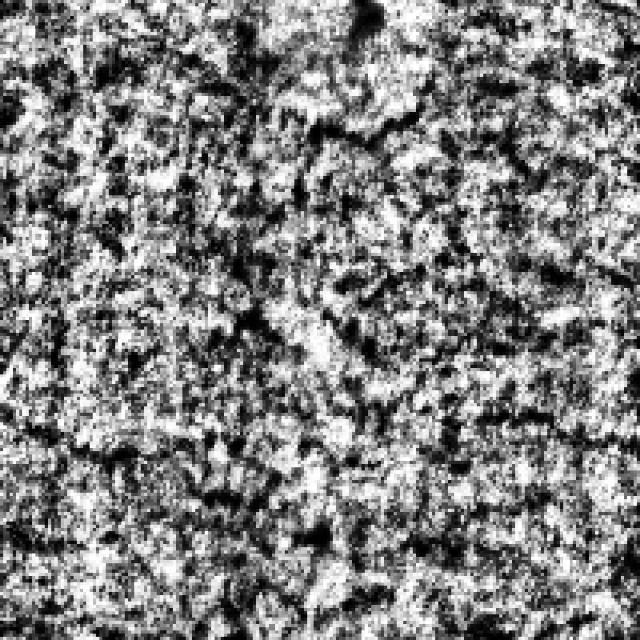Pitted_Surface: (224, 64, 445, 362), (0, 400, 282, 560), (394, 372, 634, 550)
